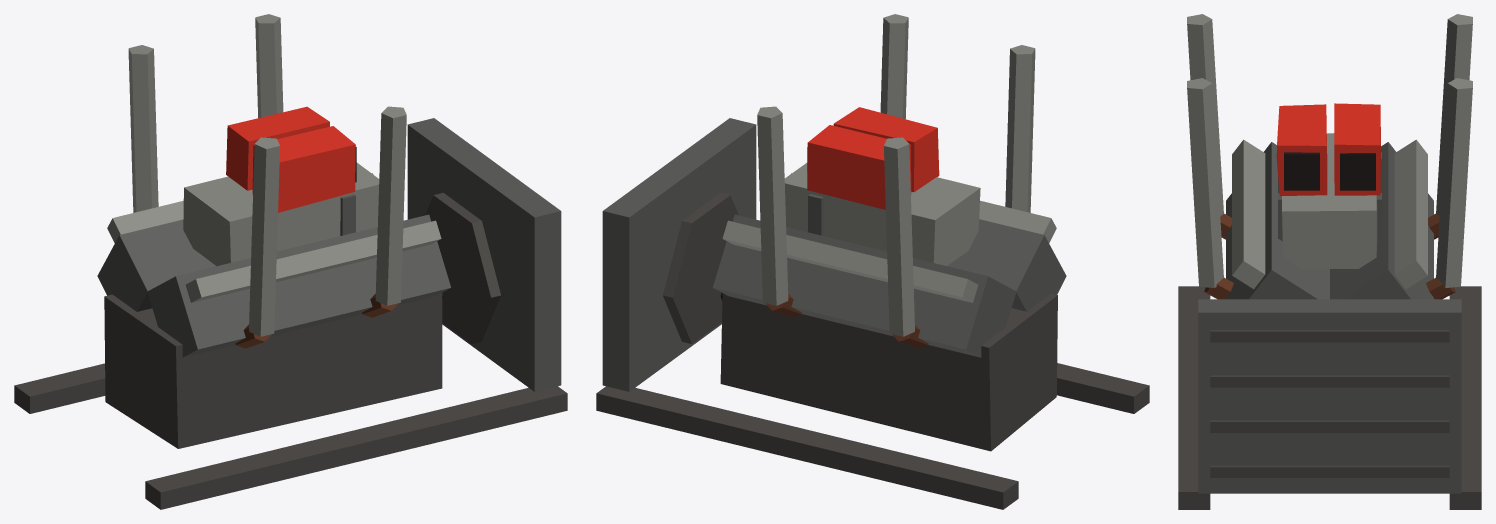
Rendered from eng_tuned_v8.glb.
3 views of the same model, side by side, from view 1: azimuth 30°, elevation 25°; view 2: azimuth 150°, elevation 25°; view 3: azimuth 270°, elevation 25° (orthographic). The views are drawn at different scales.
Visible parts, largest first — view 1: eng_tuned_v8; view 2: eng_tuned_v8; view 3: eng_tuned_v8.
Boxes of the visible parts, bbox=[...] form: eng_tuned_v8: bbox=[14, 14, 567, 509]; eng_tuned_v8: bbox=[596, 14, 1149, 509]; eng_tuned_v8: bbox=[1178, 14, 1481, 509].
Size of the model in its own units: 1.24 by 0.9519 by 0.76.
